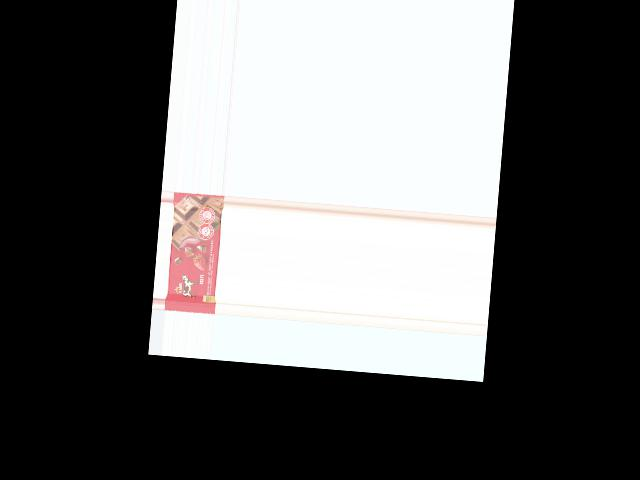chocolate: (164, 191, 224, 315)
